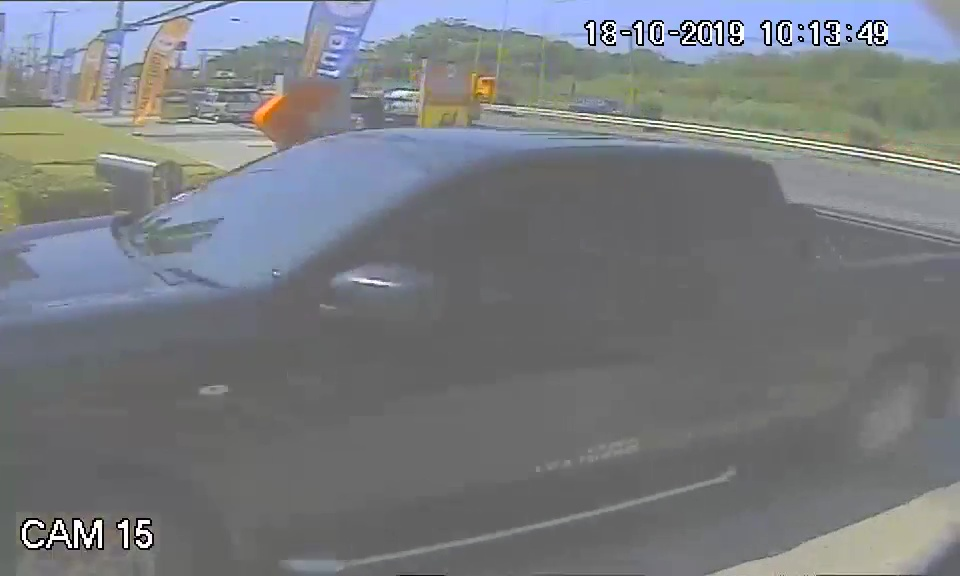pickup: (2, 126, 960, 518)
